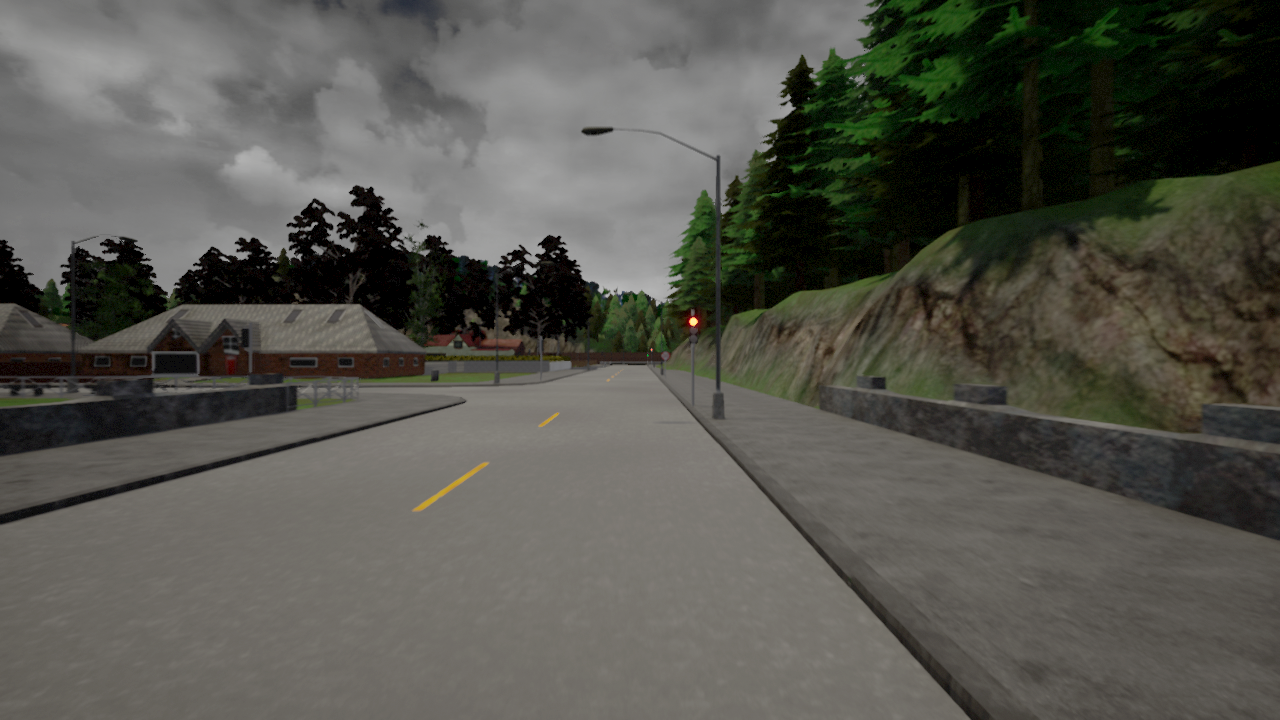red: (688, 315, 700, 345)
